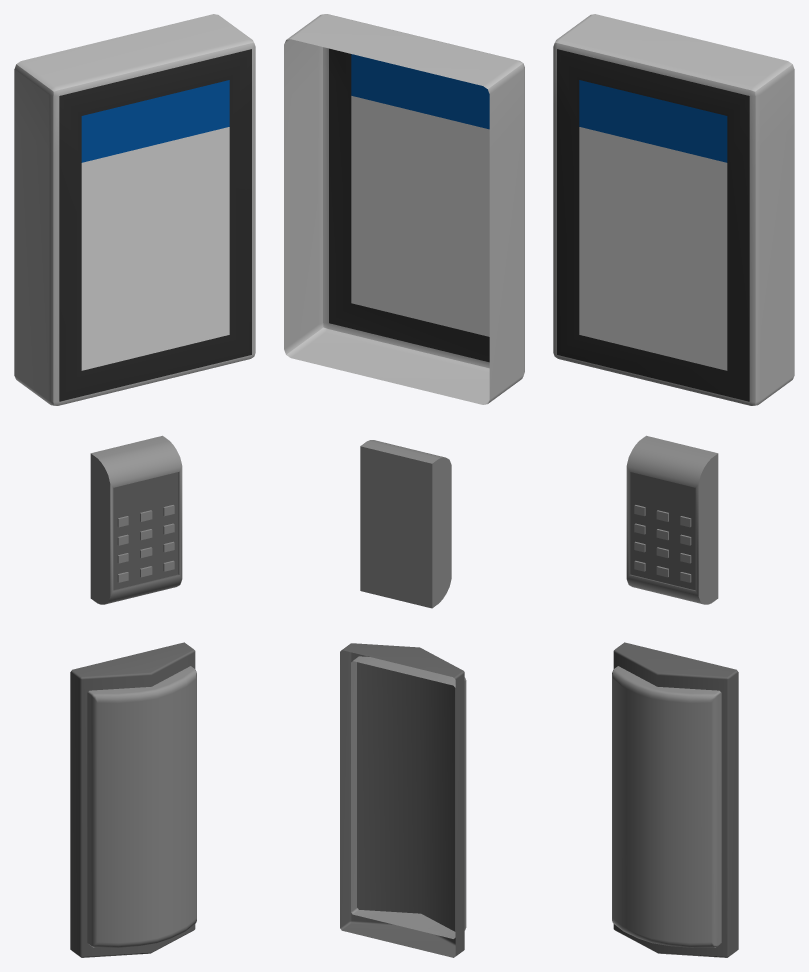
File: Detail för dörrar.fbx
3 renders of one model, left to right at view 1: azimuth 30°, elevation 25°; view 2: azimuth 150°, elevation 25°; view 3: azimuth 330°, elevation 25°, orthographic.
Parts seen in each view (by area): view 1: Rum_Panel, Dörrknapp, Kortläsare; view 2: Rum_Panel, Dörrknapp, Kortläsare; view 3: Rum_Panel, Dörrknapp, Kortläsare.
Part boxes in pixels (x1,y1,x2,y2): Rum_Panel: (14, 14, 255, 405); Dörrknapp: (70, 642, 196, 957); Kortläsare: (90, 435, 182, 604); Rum_Panel: (284, 14, 524, 404); Dörrknapp: (340, 643, 466, 957); Kortläsare: (360, 440, 451, 608); Rum_Panel: (553, 14, 794, 405); Dörrknapp: (612, 642, 738, 957); Kortläsare: (626, 435, 718, 604).
Size of the model in its own units: 6.05 by 24.99 by 2.04.
